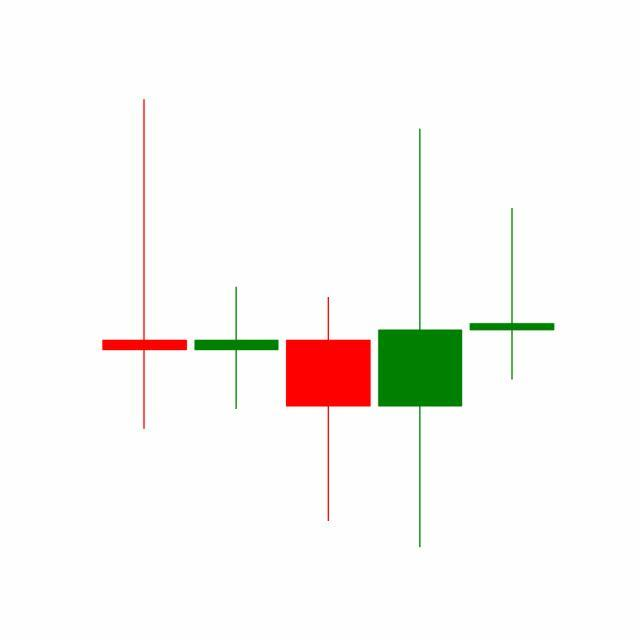Spinning Top: (466, 206, 559, 382)
